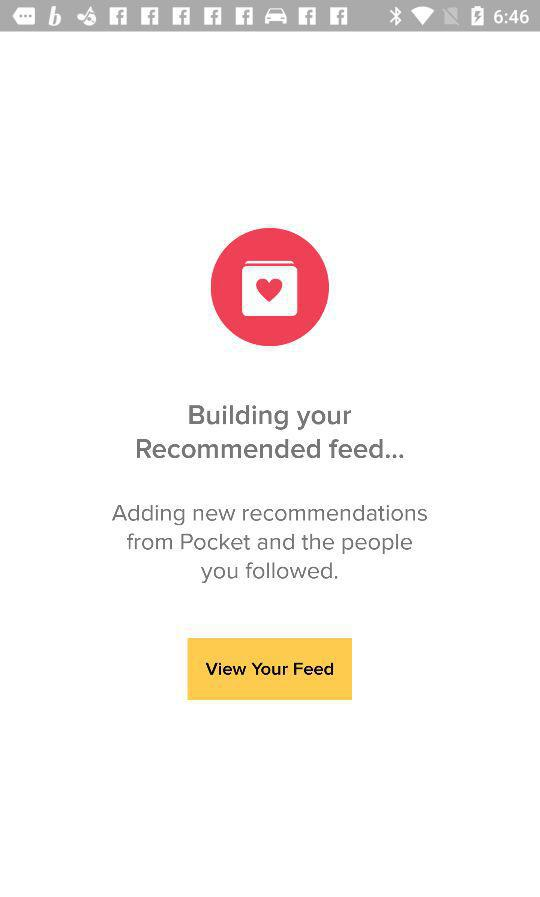Image: (211, 228, 330, 347)
Text: (112, 504, 428, 584), (137, 404, 404, 461)
TextButton: (187, 638, 353, 701)
UpperTaskBar: (1, 1, 540, 33)
